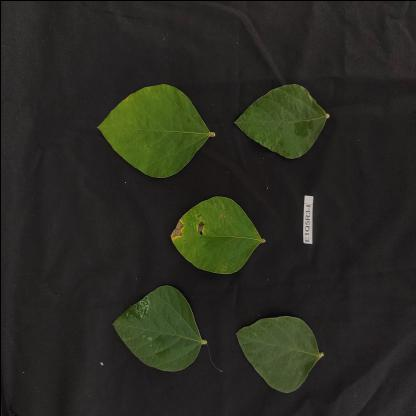label: (284, 188, 316, 254)
leaflets: (230, 62, 344, 178), (87, 76, 214, 176), (97, 286, 225, 374), (152, 192, 272, 272), (234, 310, 334, 406)
